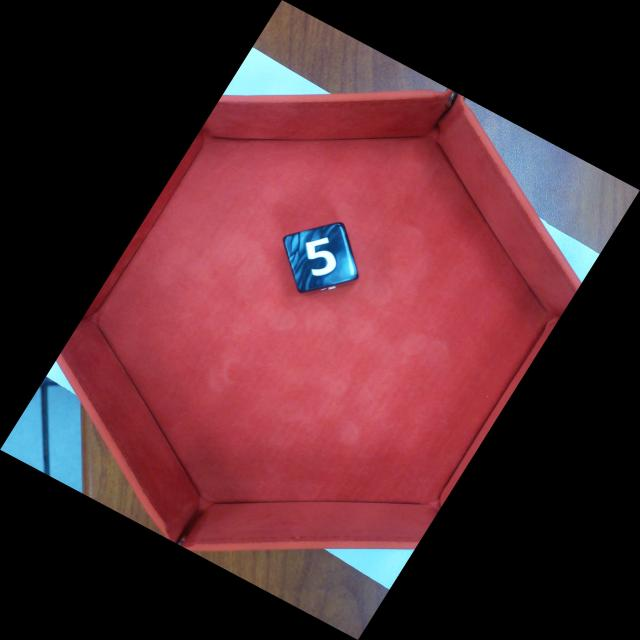dice: (282, 221, 360, 294)
